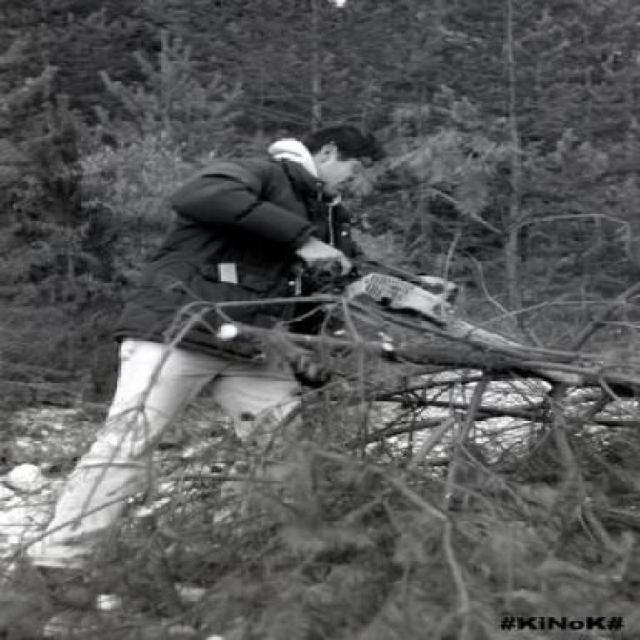Chainsaw: (293, 251, 529, 363)
